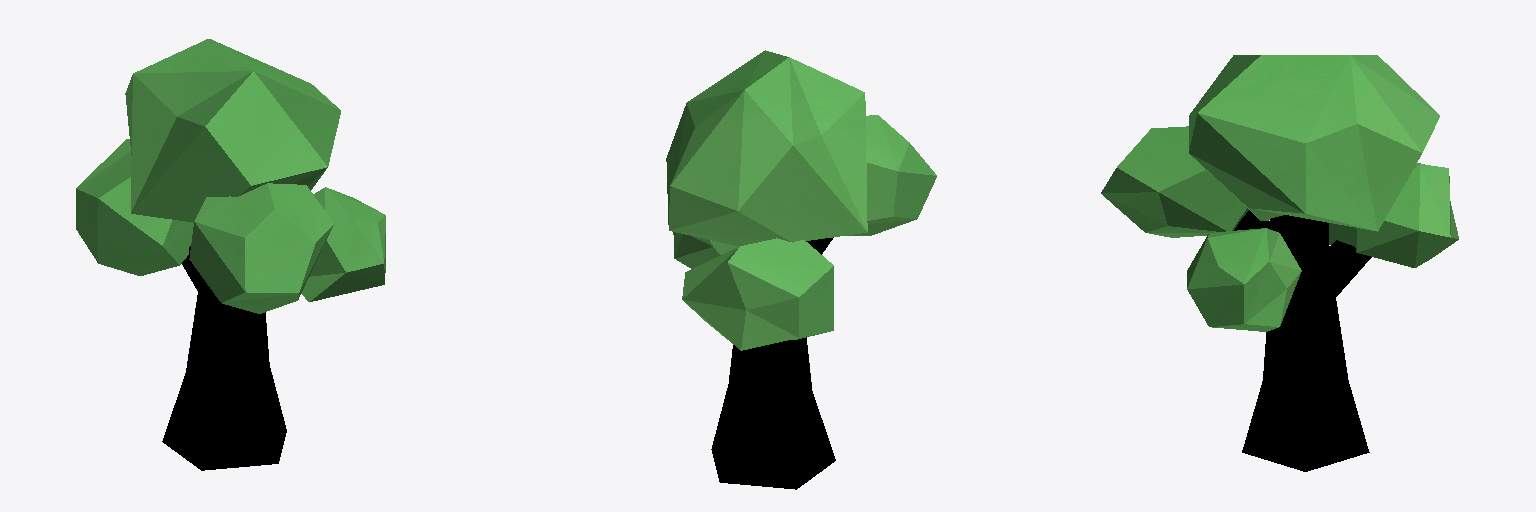
The picture shows the model from 3 angles: view 1: azimuth 30°, elevation 25°; view 2: azimuth 150°, elevation 25°; view 3: azimuth 270°, elevation 25°; orthographic projection.
Bounding box in the file's own units: 2.77 × 4.59 × 3.83.
Materials: 2 (1 with a texture image).